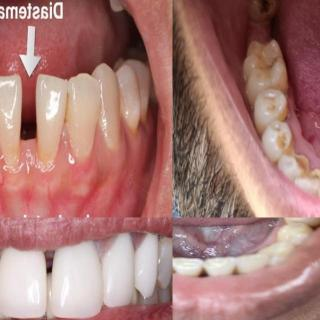calculus: (276, 128, 306, 154), (273, 103, 298, 129), (286, 155, 312, 177), (302, 163, 320, 193), (275, 80, 293, 108)
cavities: (250, 0, 274, 19)
stains: (54, 91, 77, 131), (276, 123, 292, 153), (292, 154, 306, 174)
